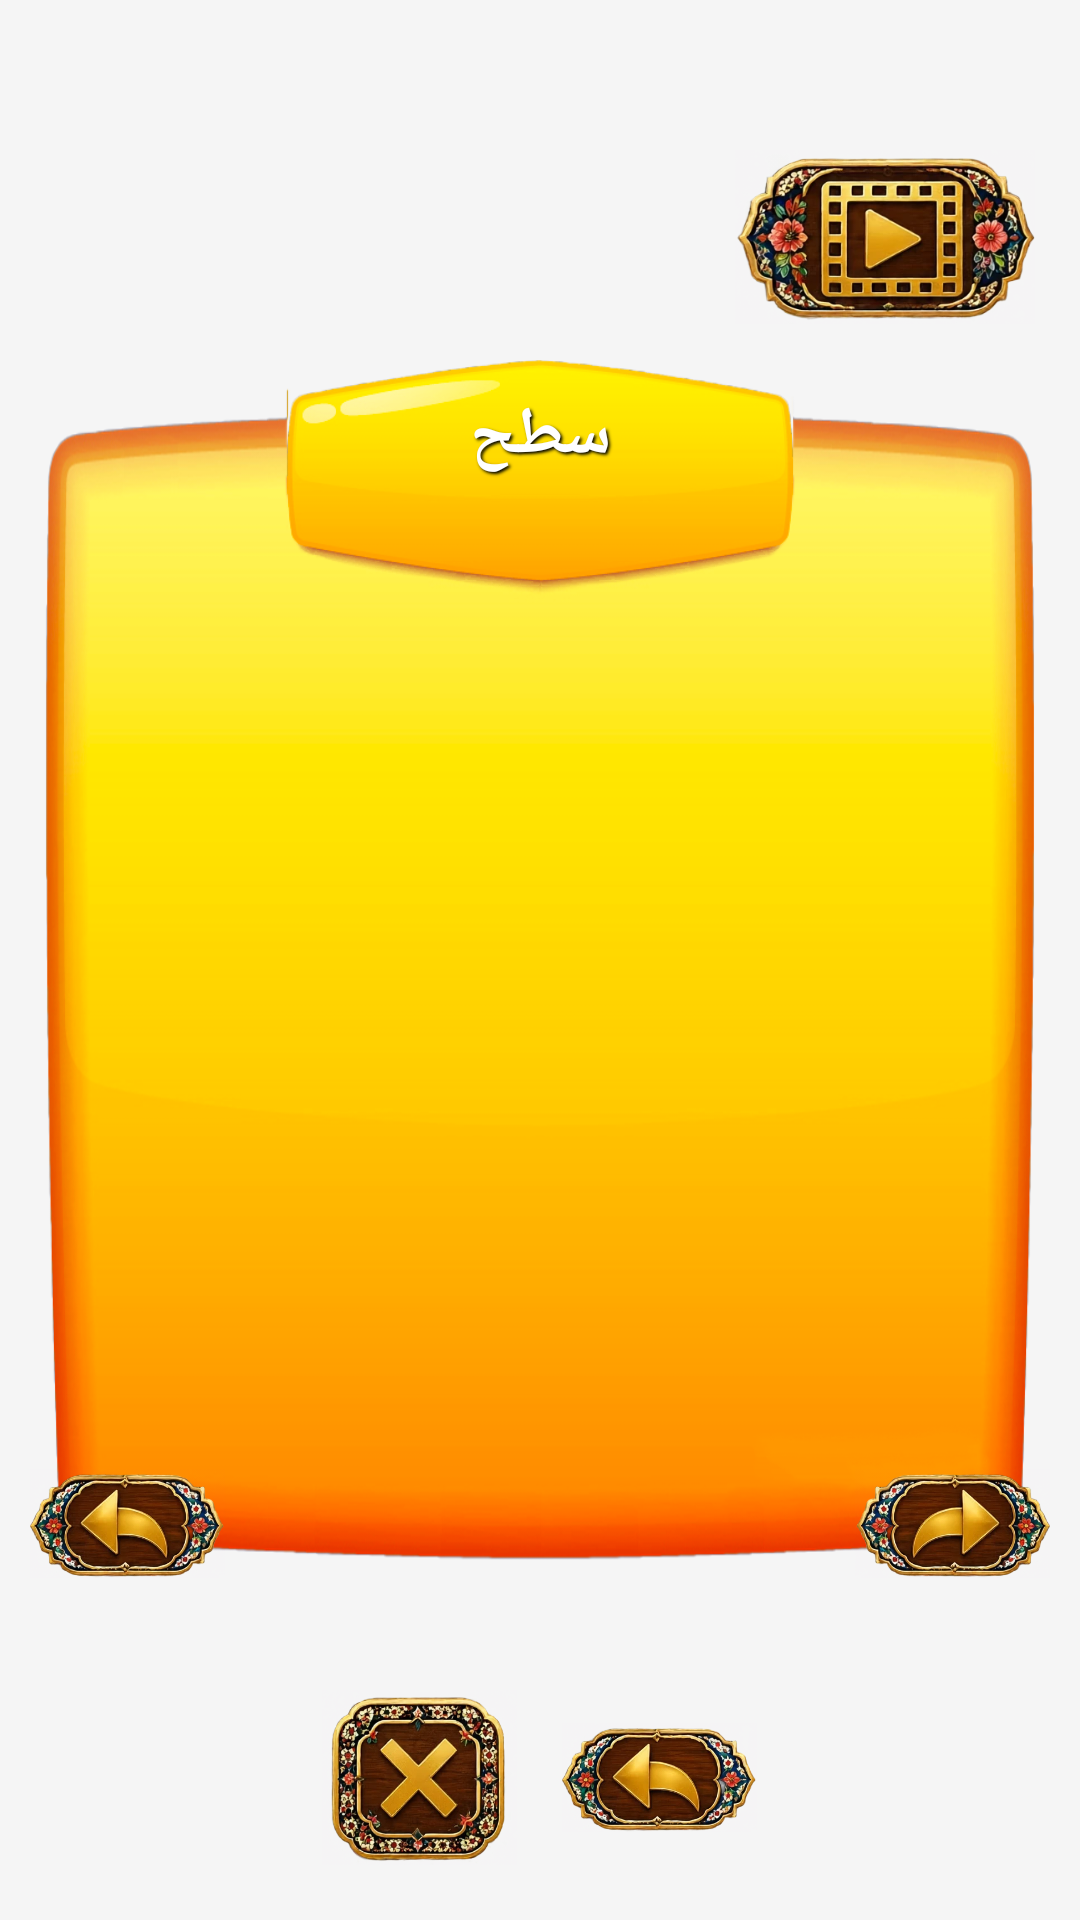

Icons on this 1080px×1920px Android screen, each with its box as (x1, y1, x2, y2):
back: (30, 1426, 225, 1577), (562, 1728, 756, 1831)
badi: (855, 1426, 1050, 1577)
close: (331, 1697, 505, 1861)
video: (737, 158, 1034, 319)
